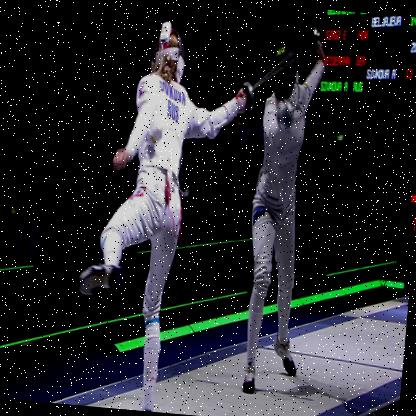fencer: (62, 8, 227, 415), (231, 36, 341, 397)
